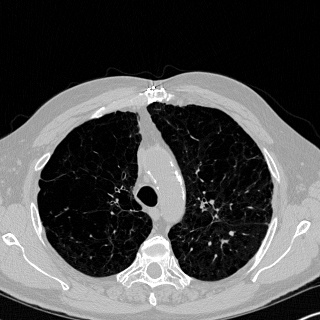PN: (229, 231, 233, 235)
